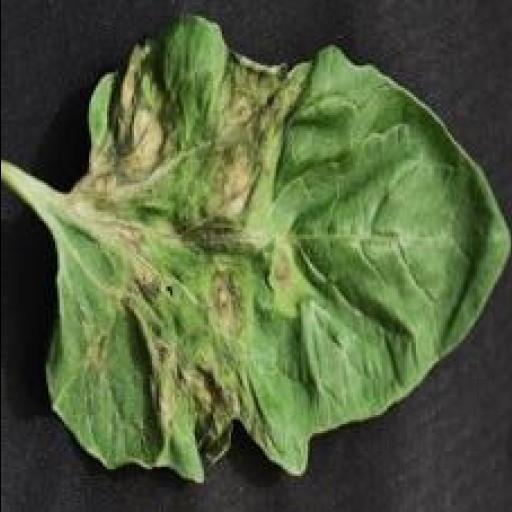disease_tomato: (0, 10, 512, 491)
